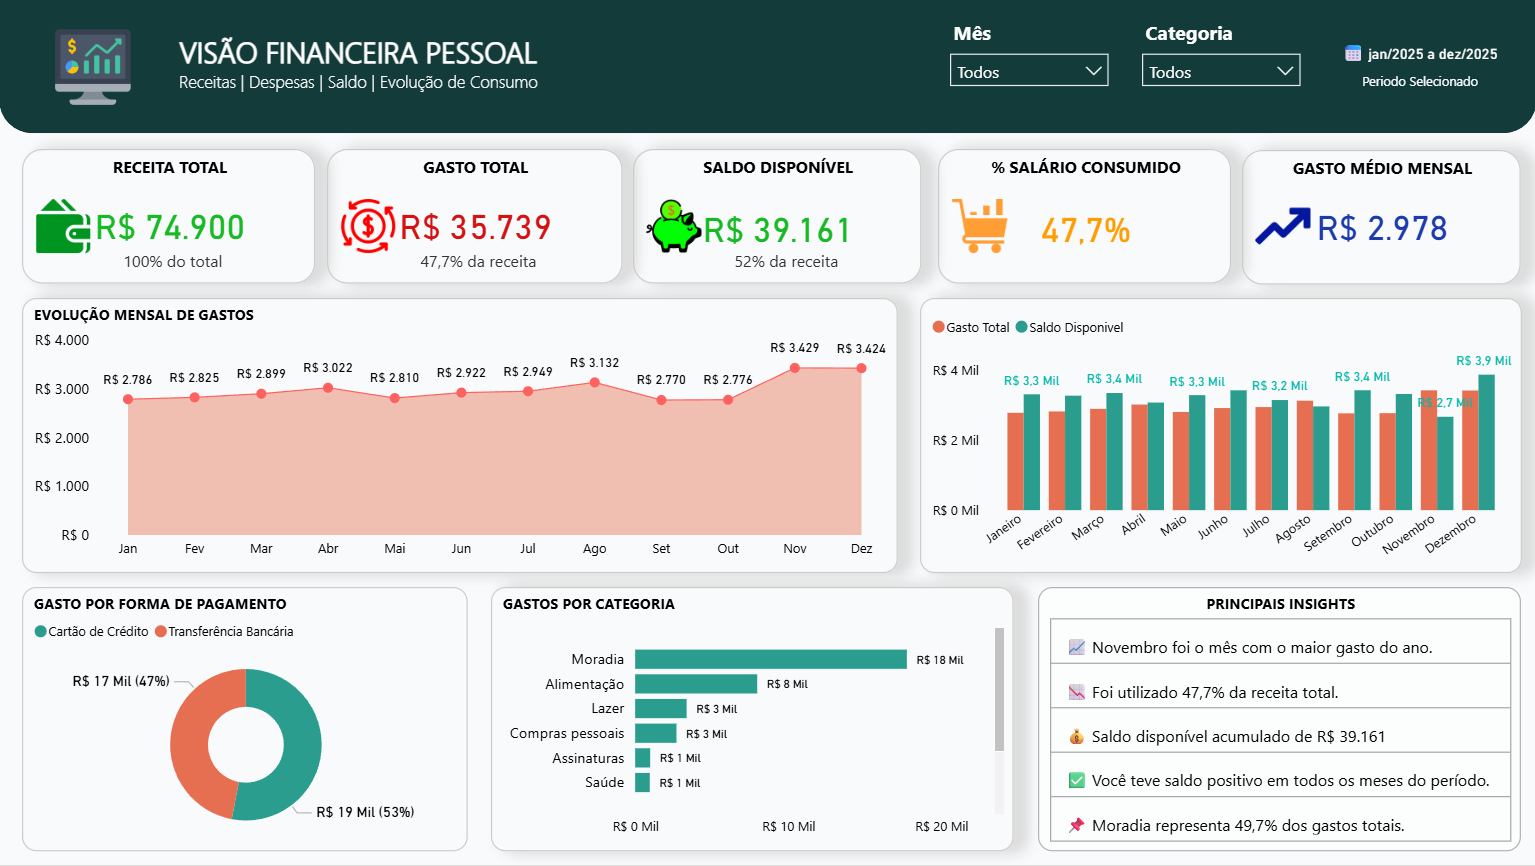

What the dashboard file says about the page in this screenshot:
{"tool":"powerbi","page":{"name":"Overview","canvas":[1280,720],"ordinal":0},"visuals":[{"type":"shape","box":[0,0,1280,111],"z":0},{"type":"textbox","box":[114,22,370,71],"z":1000},{"type":"image","box":[26.9,17.9,103,75.2],"z":2000},{"type":"slicer","fields":{"Values":["d_local_gasto.nome_local"]},"box":[941.2,11.6,152,78.8],"z":3000},{"type":"slicer","fields":{"Values":["d_calendario.mes_nome"]},"box":[781.8,11.6,152.2,78.8],"z":4000},{"type":"card","title":"RECEITA TOTAL","fields":{"Values":["Medidas.Salário Total"]},"box":[19.3,124,244.4,112],"z":5000},{"type":"card","title":"GASTO TOTAL","fields":{"Values":["Medidas.Gasto Total"]},"box":[273.3,124,245.6,112],"z":6000},{"type":"card","title":"SALDO DISPONÍVEL","fields":{"Values":["Medidas.Saldo Disponível"]},"box":[527.4,124,239.6,112],"z":7000},{"type":"card","title":"% SALÁRIO CONSUMIDO","fields":{"Values":["Medidas.% Salário Consumido"]},"box":[781.5,124,244.4,112],"z":8000},{"type":"card","title":"GASTO MÉDIO MENSAL","fields":{"Values":["Medidas.Gasto Médio Mensal"]},"box":[1035,124.5,232,112],"z":9000},{"type":"lineChart","title":"EVOLUÇÃO MENSAL DE GASTOS","fields":{"Category":["d_calendario.MesAbv"],"Y":["Medidas.Gasto Total"]},"box":[18.8,248.1,729,229.3],"z":10000},{"type":"lineClusteredColumnComboChart","fields":{"Y":["Medidas.Gasto Total","Medidas.Saldo Disponível"],"Category":["d_calendario.mes_nome"]},"box":[766.6,248.1,500.6,229.3],"z":11000},{"type":"barChart","title":"GASTOS POR CATEGORIA","fields":{"Y":["Medidas.Gasto Total"],"Category":["d_categoria.nome_categoria"]},"box":[409.6,489,435.2,220.3],"z":12000},{"type":"donutChart","title":"GASTO POR FORMA DE PAGAMENTO","fields":{"Category":["d_forma_pagamento.descricao"],"Y":["Medidas.Gasto Total"]},"box":[18.8,489,370.7,220.3],"z":13000},{"type":"card","title":"Período Selecionado","fields":{"Values":["Medidas.Periodo Selecionado"]},"box":[1086.3,0,193.4,107.5],"z":14000},{"type":"image","box":[19.6,160.4,66.9,55.4],"z":15000},{"type":"image","box":[273.5,160.4,66.9,55.4],"z":16000},{"type":"image","box":[527.3,160.4,68.1,55.4],"z":17000},{"type":"image","box":[782.3,160.4,68.1,55.4],"z":18000},{"type":"image","box":[1035,160.4,68.1,55.4],"z":19000},{"type":"cardVisual","title":"PRINCIPAIS INSIGHTS","fields":{"Data":["Medidas.Insight Mes","Medidas.Insight Financeiro","Medidas.Insight Saldo","Medidas.Insight Saldo Mensal","Medidas.Insight Categoria"]},"box":[865,488.7,402.4,220.1],"z":20000},{"type":"cardVisual","fields":{"Data":["Medidas.Texto Gasto da Receita"]},"box":[333.5,187.8,150.5,48.2],"z":20004},{"type":"cardVisual","fields":{"Data":["Medidas.Texto Receita do Total"]},"box":[86.7,187.8,150.5,48.2],"z":20005},{"type":"cardVisual","fields":{"Data":["Medidas.Texto Saldo da Receita"]},"box":[594.8,187.8,150.5,48.2],"z":20006}]}

Visuals, with their boxes in screenshot pixels (x1, y1, x2, y2), scaled from the page's 1280x720 canvas onto the 1535x866 screenshot:
shape: (x1=0, y1=0, x2=1534, y2=134)
textbox: (x1=137, y1=26, x2=580, y2=112)
image: (x1=32, y1=22, x2=156, y2=112)
slicer - d_local_gasto.nome_local: (x1=1129, y1=14, x2=1311, y2=109)
slicer - d_calendario.mes_nome: (x1=938, y1=14, x2=1120, y2=109)
"RECEITA TOTAL" card: (x1=23, y1=149, x2=316, y2=284)
"GASTO TOTAL" card: (x1=328, y1=149, x2=622, y2=284)
"SALDO DISPONÍVEL" card: (x1=632, y1=149, x2=920, y2=284)
"% SALÁRIO CONSUMIDO" card: (x1=937, y1=149, x2=1230, y2=284)
"GASTO MÉDIO MENSAL" card: (x1=1241, y1=150, x2=1519, y2=284)
"EVOLUÇÃO MENSAL DE GASTOS" lineChart: (x1=23, y1=298, x2=897, y2=574)
lineClusteredColumnComboChart - Medidas.Gasto Total x Medidas.Saldo Disponível: (x1=919, y1=298, x2=1520, y2=574)
"GASTOS POR CATEGORIA" barChart: (x1=491, y1=588, x2=1013, y2=853)
"GASTO POR FORMA DE PAGAMENTO" donutChart: (x1=23, y1=588, x2=467, y2=853)
"Período Selecionado" card: (x1=1303, y1=0, x2=1534, y2=129)
image: (x1=24, y1=193, x2=104, y2=260)
image: (x1=328, y1=193, x2=408, y2=260)
image: (x1=632, y1=193, x2=714, y2=260)
image: (x1=938, y1=193, x2=1020, y2=260)
image: (x1=1241, y1=193, x2=1323, y2=260)
"PRINCIPAIS INSIGHTS" cardVisual: (x1=1037, y1=588, x2=1520, y2=853)
cardVisual - Medidas.Texto Gasto da Receita: (x1=400, y1=226, x2=580, y2=284)
cardVisual - Medidas.Texto Receita do Total: (x1=104, y1=226, x2=284, y2=284)
cardVisual - Medidas.Texto Saldo da Receita: (x1=713, y1=226, x2=894, y2=284)
